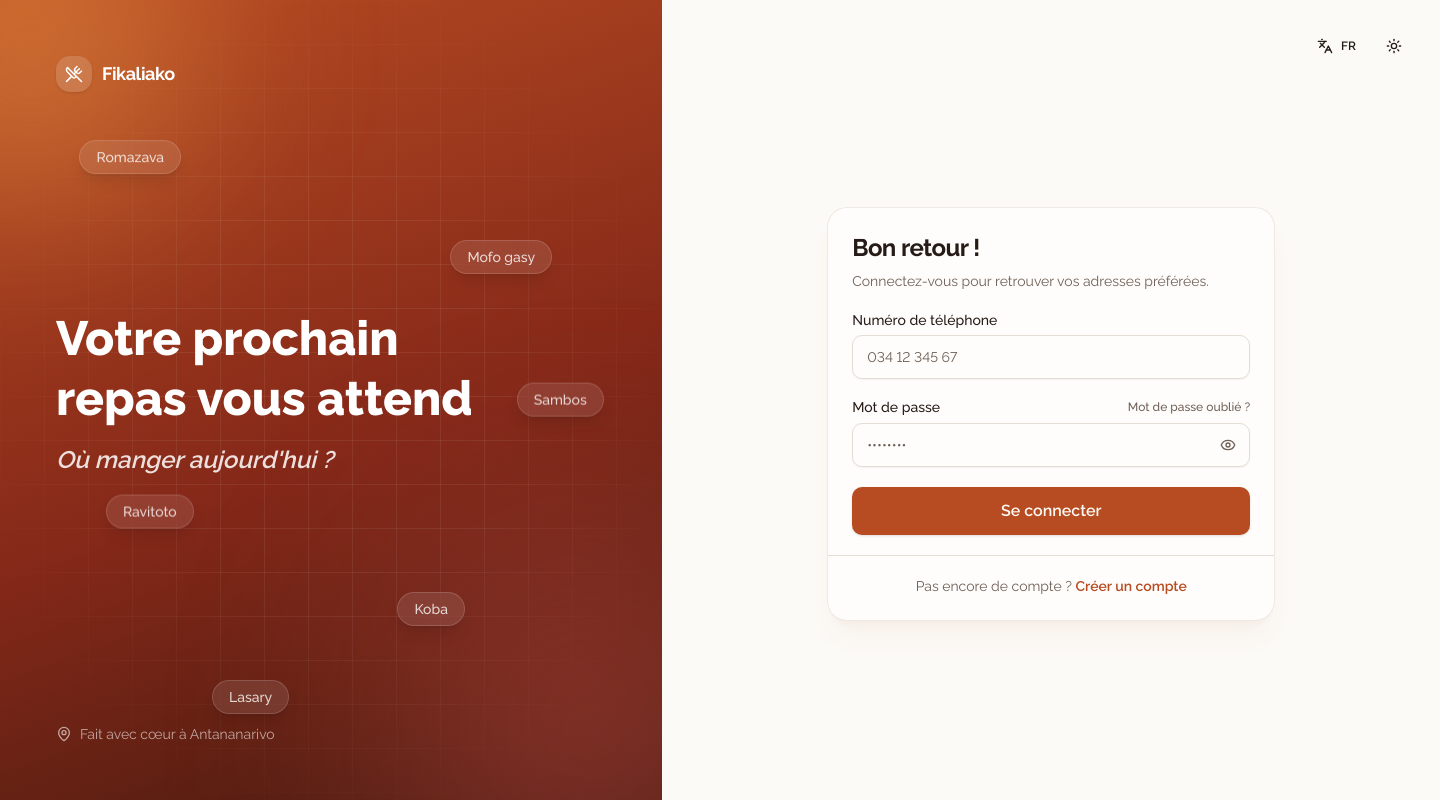
Test: login › toggles password visibility
Type "secret" into the password field named "password" at [1051, 445], box x1=852 y1=423 x2=1250 y2=467
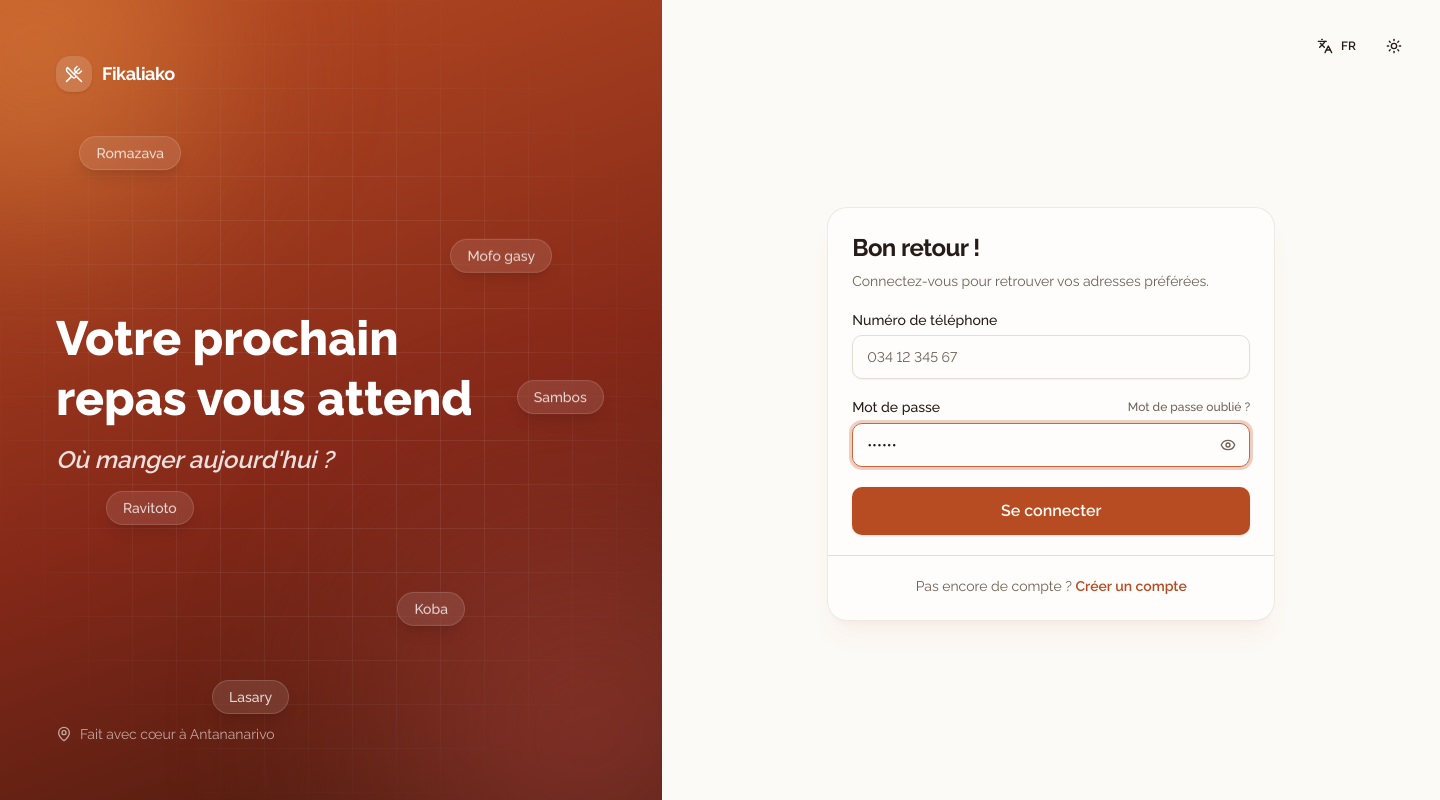
Click the button named "Afficher le mot de passe" at [1228, 445], box x1=1206 y1=423 x2=1250 y2=467
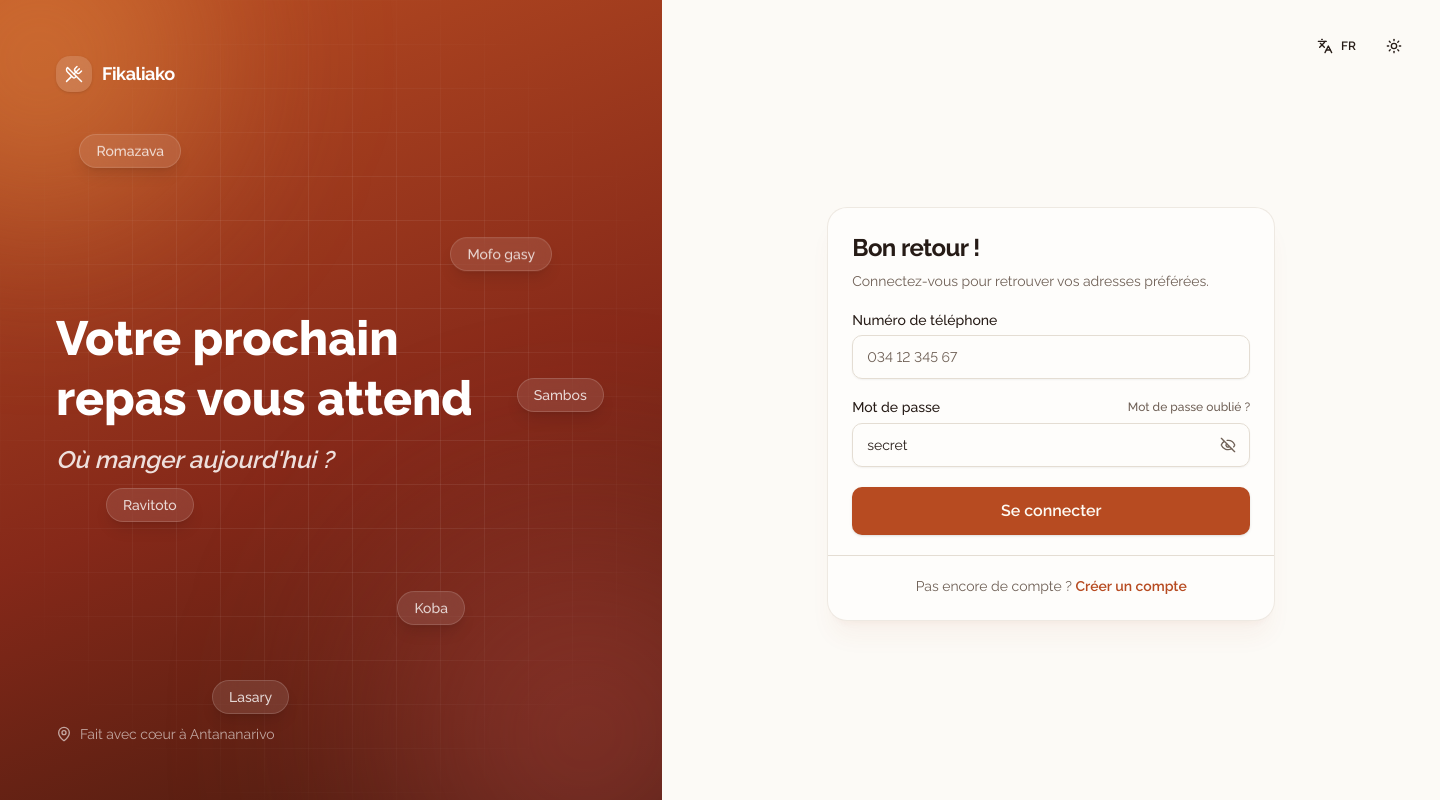
Now the field named "password" shows its text, box x1=852 y1=423 x2=1250 y2=467
Click the button named "Masquer le mot de passe" at [1228, 445], box x1=1206 y1=423 x2=1250 y2=467
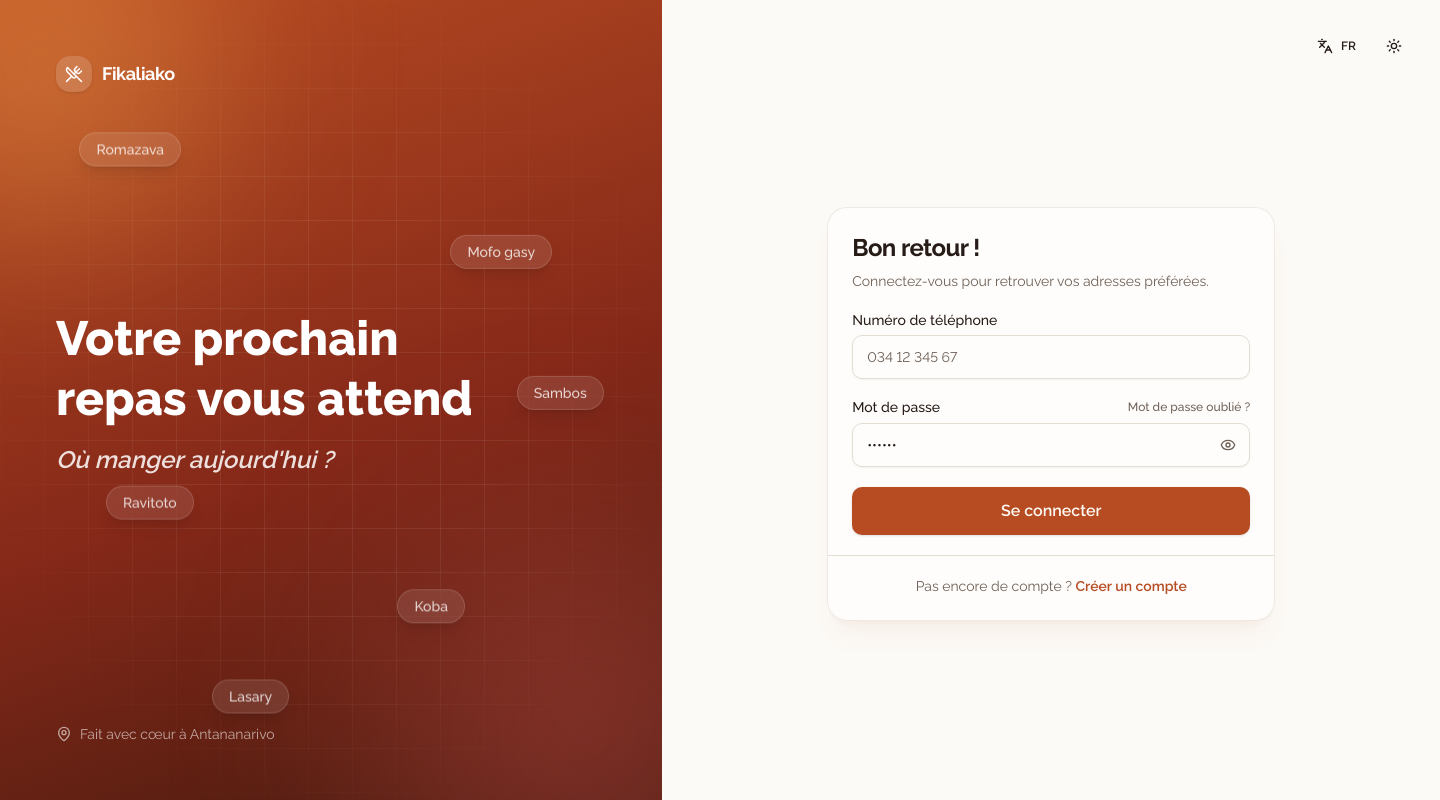
Now the password field named "password" hides its text, box x1=852 y1=423 x2=1250 y2=467
